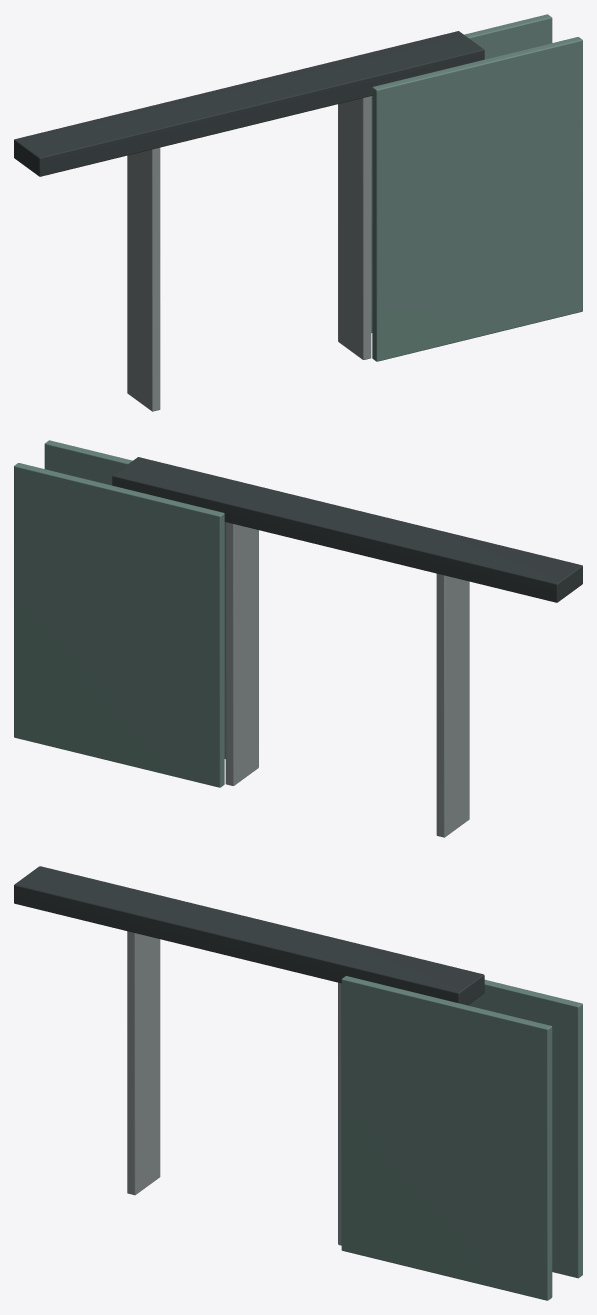
Rendered from H_DoorPocket.fbx.
The picture shows the model from 3 angles, top to bottom: view 1: azimuth 30°, elevation 25°; view 2: azimuth 150°, elevation 25°; view 3: azimuth 330°, elevation 25°; orthographic projection.
Parts seen in each view (by area): view 1: H_DoorPocket; view 2: H_DoorPocket; view 3: H_DoorPocket.
Part boxes in pixels (box(x1,y1,x2,y2)): H_DoorPocket: box(14, 14, 582, 411); H_DoorPocket: box(14, 440, 582, 837); H_DoorPocket: box(14, 866, 582, 1300).
Bounding box in the file's own units: 5.26 × 2.63 × 0.6.
